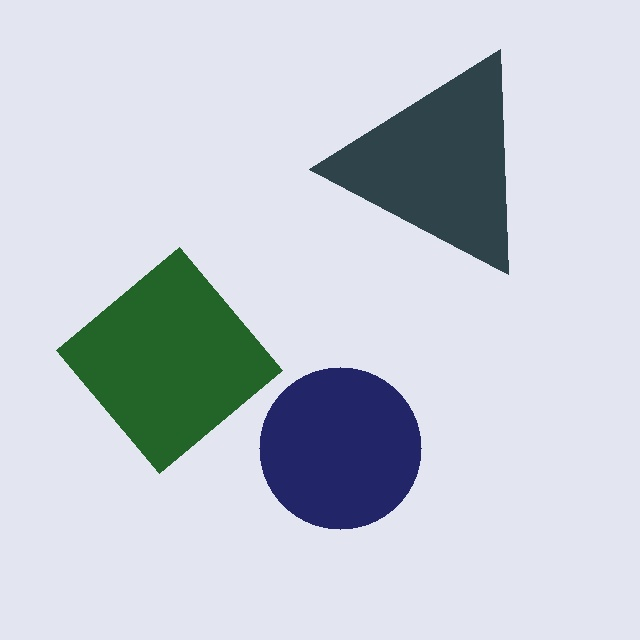circle: (258, 366, 422, 530)
square: (55, 247, 282, 473)
triangle: (308, 49, 508, 275)
